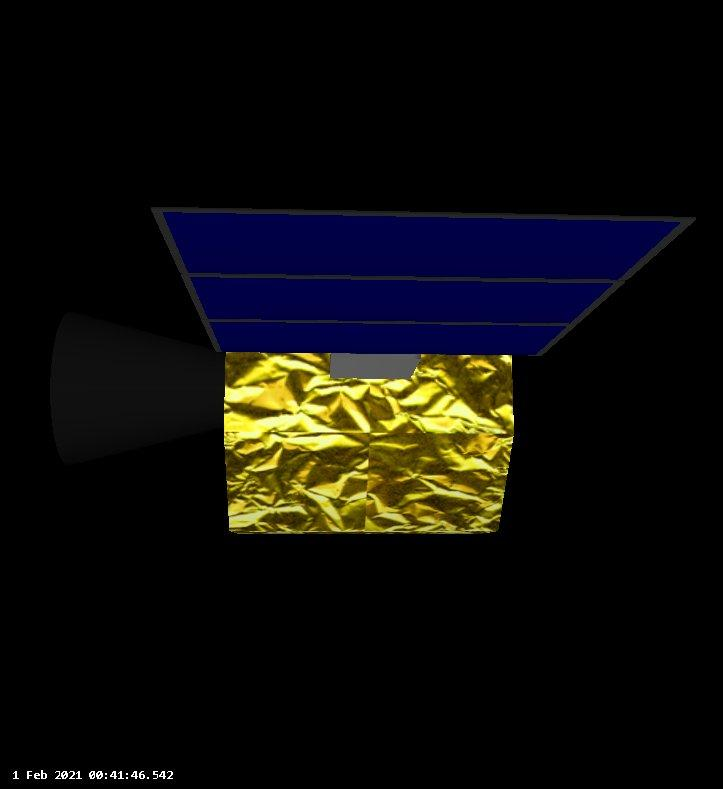body: (219, 348, 516, 538)
solar: (146, 203, 701, 360)
thruster: (43, 309, 228, 466)
